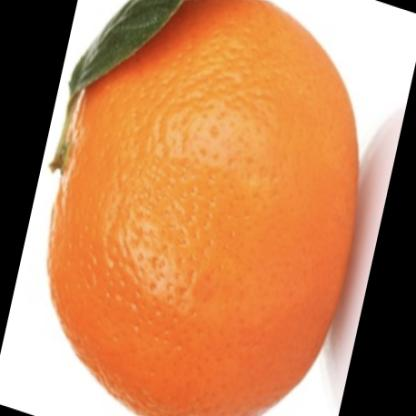fresh: (48, 4, 360, 416)
